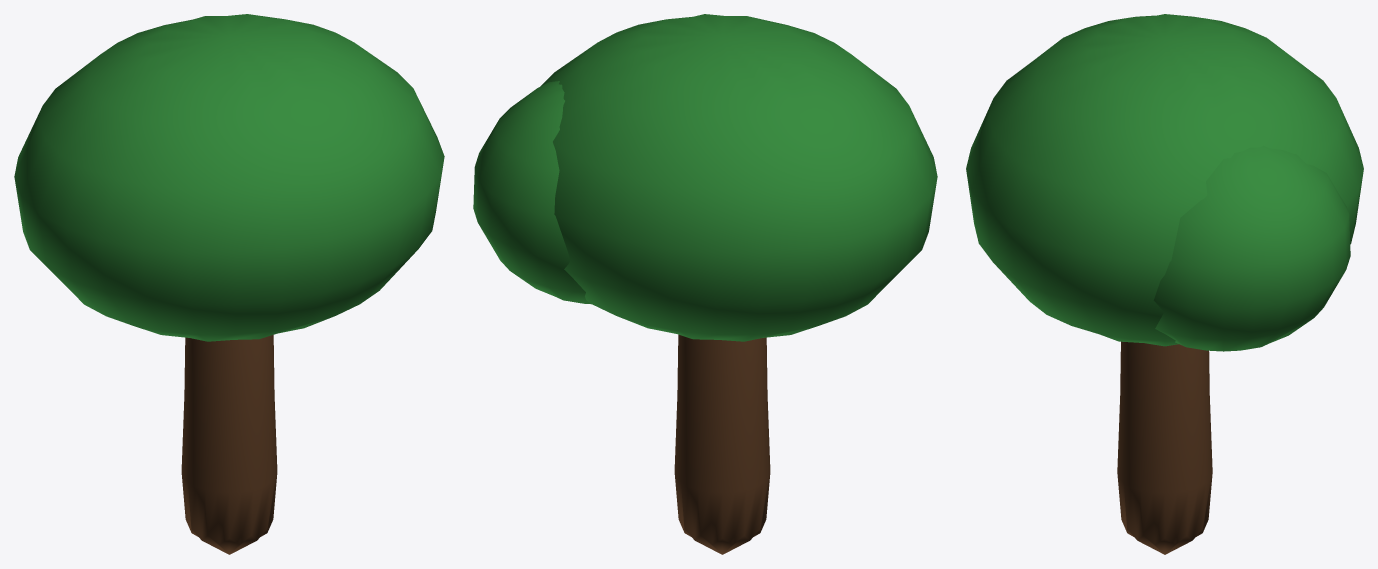
The model's file is oak_tree.glb.
3 renders of one model, left to right at view 1: azimuth 30°, elevation 25°; view 2: azimuth 150°, elevation 25°; view 3: azimuth 270°, elevation 25°, orthographic.
Parts seen in each view (by area): view 1: Canopy1, Trunk; view 2: Canopy1, Trunk, Canopy2; view 3: Canopy1, Canopy2, Trunk.
Part boxes in pixels (x1,y1,x2,y2): Canopy1: [14, 14, 444, 341]; Trunk: [181, 335, 277, 554]; Canopy1: [540, 14, 937, 341]; Trunk: [674, 334, 770, 554]; Canopy2: [473, 81, 591, 304]; Canopy1: [966, 14, 1363, 346]; Canopy2: [1153, 145, 1350, 351]; Trunk: [1117, 341, 1212, 554].
Bounding box in the file's own units: 1.92 × 2.42 × 1.7.
Materials: 2 (2 with a texture image).
